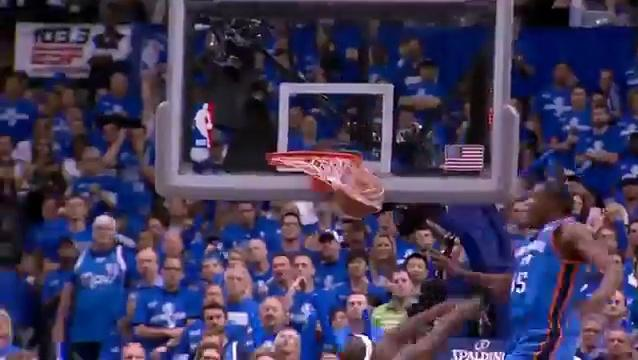Backboard: (149, 0, 525, 207)
Ball: (333, 171, 384, 217)
Made Basket: (260, 149, 389, 215)
Person: (518, 181, 624, 360)
